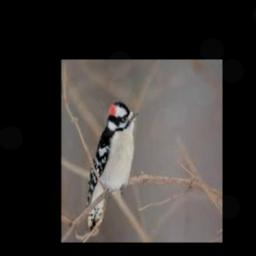Woodpecker: (86, 101, 138, 232)
